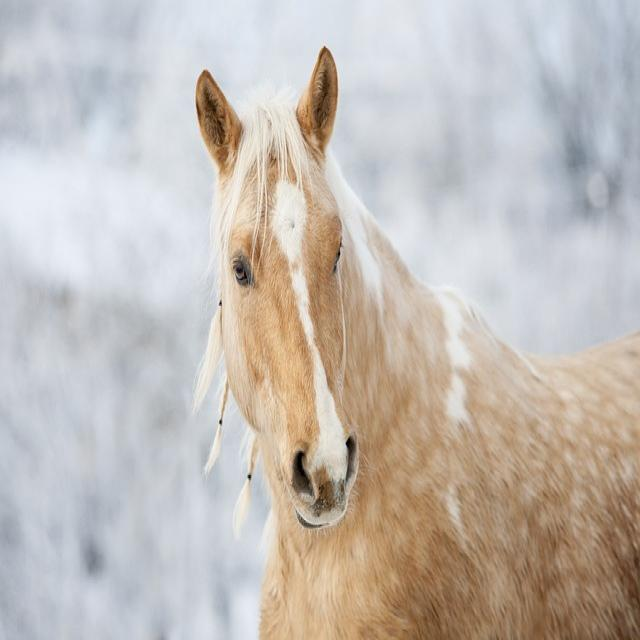Herbivorous: (193, 46, 640, 640)
